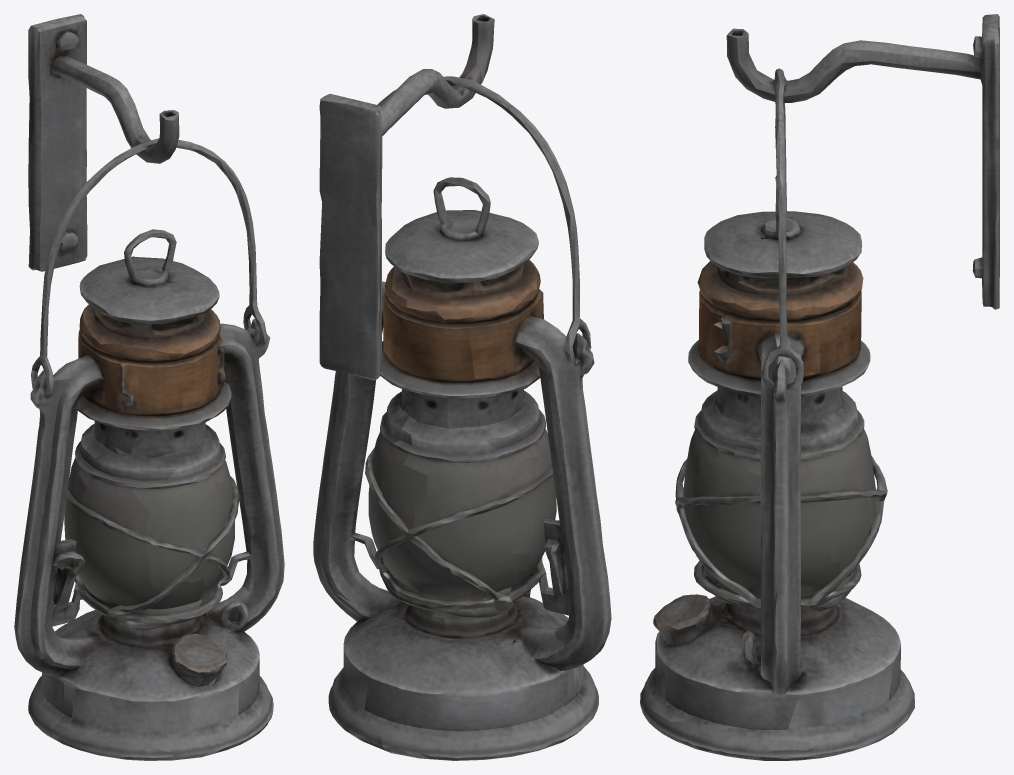
3 views of the same model, side by side, from view 1: azimuth 30°, elevation 25°; view 2: azimuth 150°, elevation 25°; view 3: azimuth 270°, elevation 25° (orthographic). The views are drawn at different scales.
Visible parts, largest first — view 1: world; view 2: world; view 3: world.
Part boxes in pixels (x1=…): world: x1=14, y1=14, x2=284, y2=760; world: x1=313, y1=14, x2=611, y2=760; world: x1=640, y1=14, x2=999, y2=760.
Bounding box in the file's own units: 0.2034 × 0.45 × 0.2153.
Materials: 1 (1 with a texture image).
